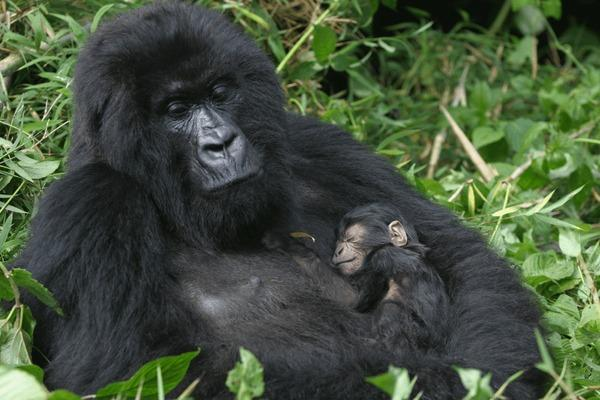goriile_montagne: (62, 0, 521, 353), (321, 188, 470, 357)
